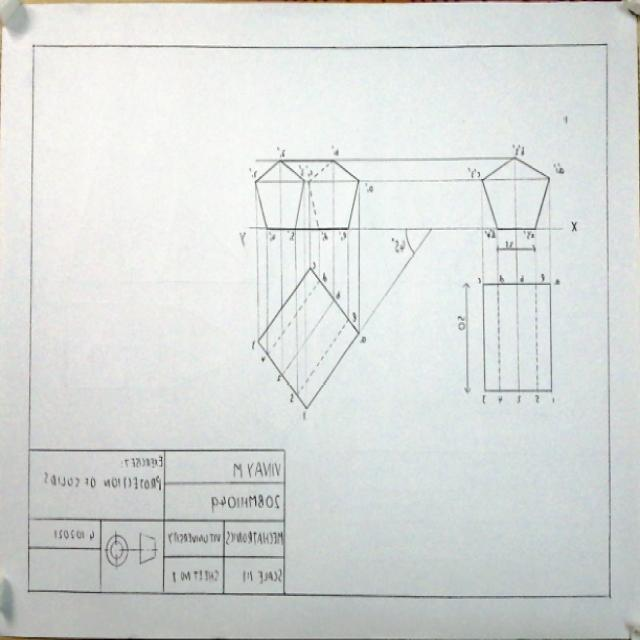Drawings: (228, 132, 582, 432)
